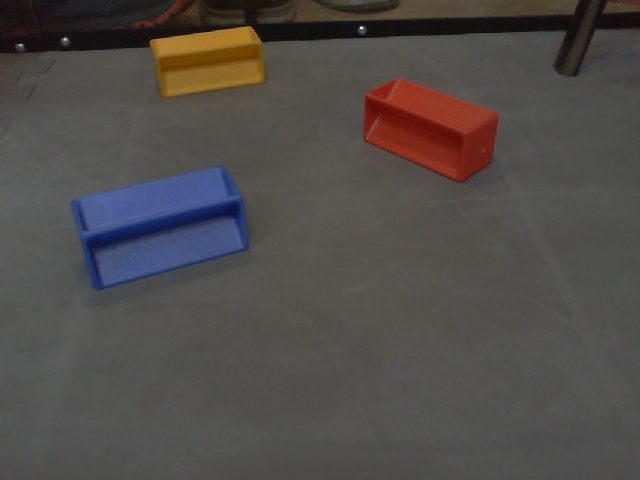BlueSample: (68, 163, 253, 291)
RedSample: (363, 76, 499, 183)
YellowSample: (147, 22, 267, 101)
